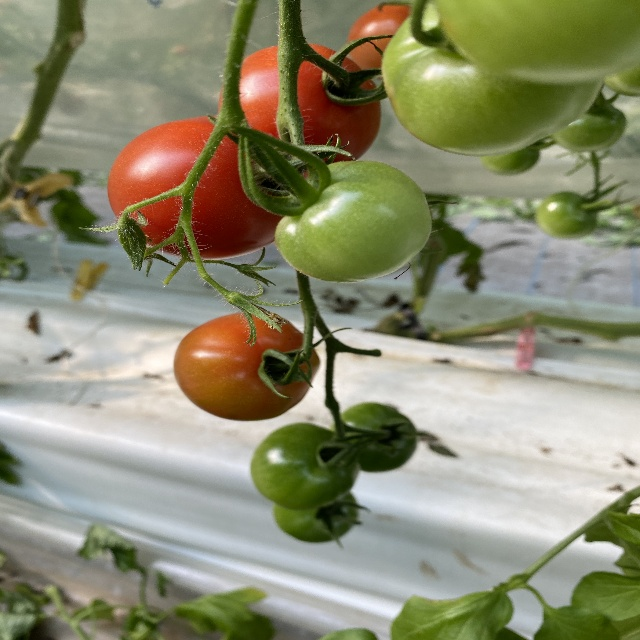l_fully_ripened: (107, 116, 304, 262), (217, 42, 383, 179)
l_green: (382, 0, 605, 157), (273, 159, 431, 284), (434, 0, 640, 85), (249, 424, 363, 511), (329, 401, 419, 473), (272, 490, 359, 543), (549, 98, 627, 154), (533, 190, 598, 240), (478, 141, 540, 175)
l_half_ripened: (171, 311, 322, 421), (345, 4, 424, 81)
